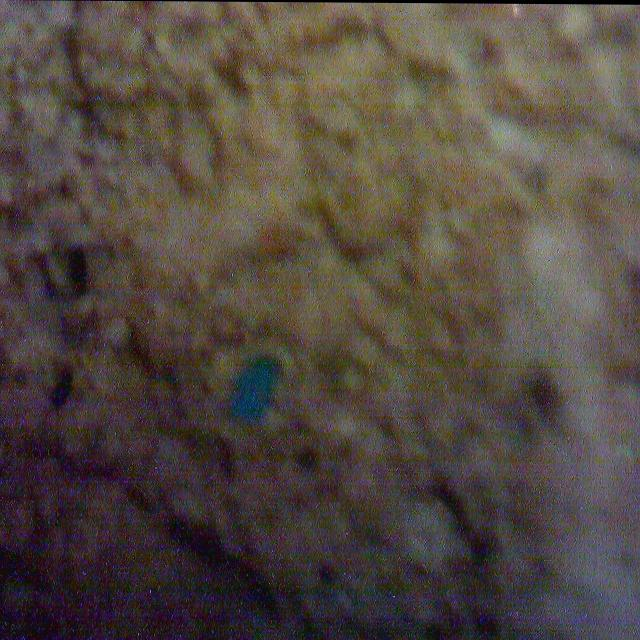microplastic: (221, 341, 287, 431)
